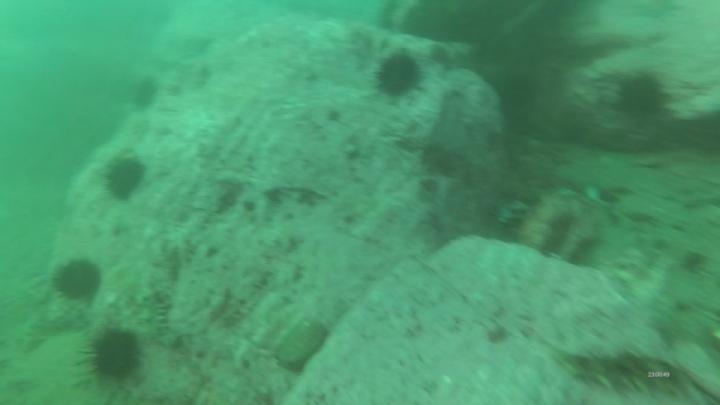echinus: (95, 334, 139, 377), (380, 53, 420, 95), (57, 263, 101, 301), (619, 80, 660, 120), (108, 164, 144, 197)
holothurian: (560, 353, 680, 398), (151, 295, 181, 350)
